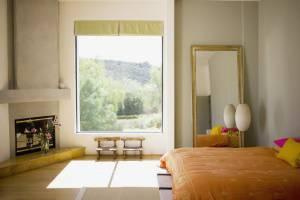window: (73, 19, 163, 132)
